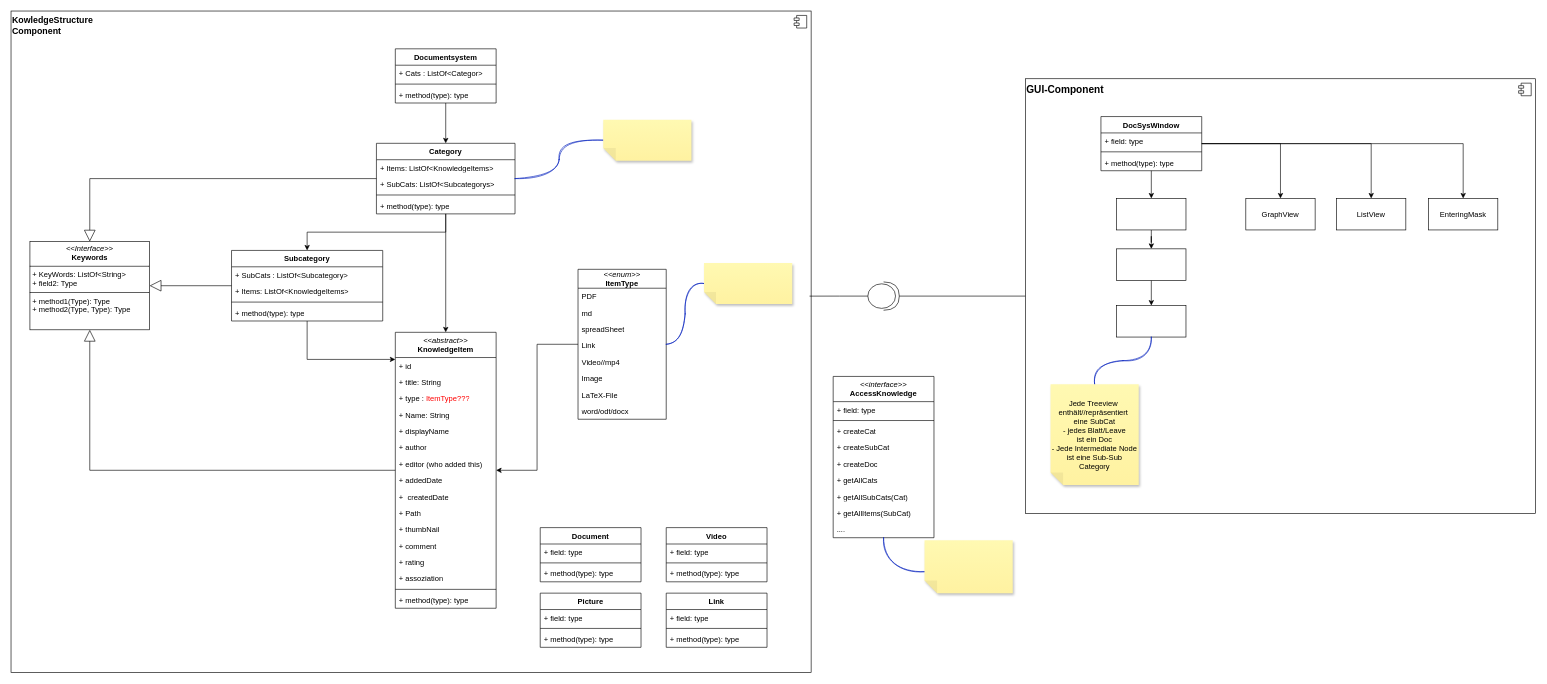
The diagram is 1547 pixels wide and 684 high, and some of its shapes have lost their labels. The shapes that lost their labels are listed below. From the top down, each one's centre as x and y in pixels, then its label:
At pixel 647 141: "Icons???".
At pixel 1151 214: "TabView".
At pixel 748 284: "File-Extension???".
At pixel 1151 264: "Tab".
At pixel 883 295: "AccesKnowlodge".
At pixel 1151 321: "Treeview".
At pixel 969 567: "CRUD - Wie Gewohn...".
